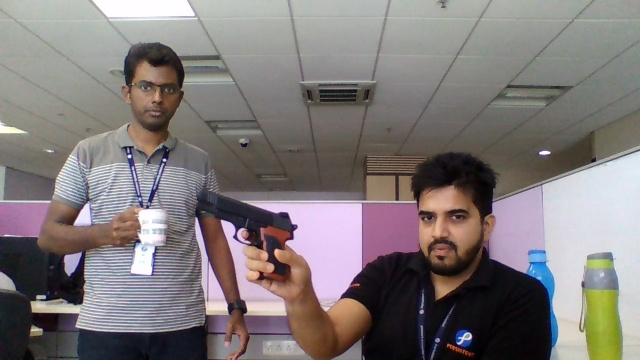gun: (195, 188, 298, 243)
